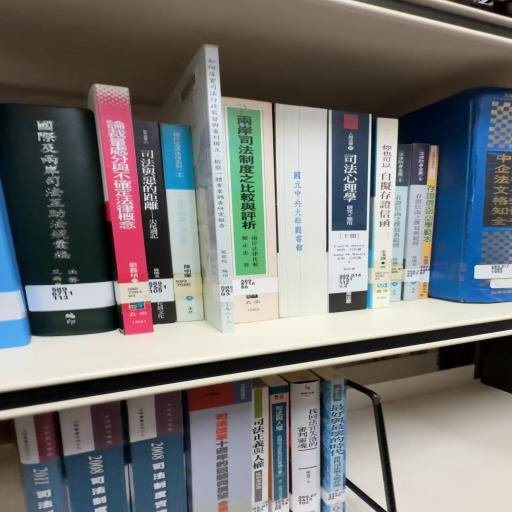backward: (280, 107, 334, 321)
book: (1, 107, 116, 336), (403, 92, 512, 311), (87, 85, 154, 337), (329, 113, 374, 317), (287, 380, 322, 512), (271, 386, 291, 506)
